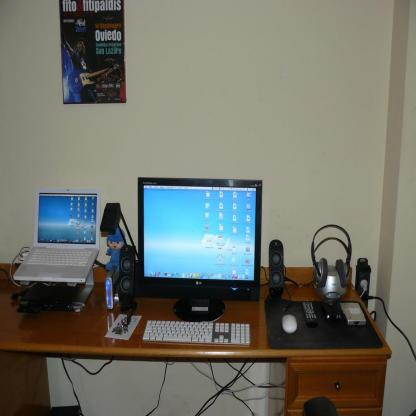board: (27, 183, 98, 280)
